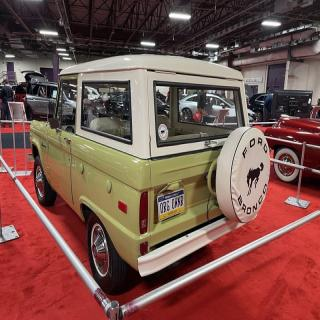license: (158, 190, 186, 223)
